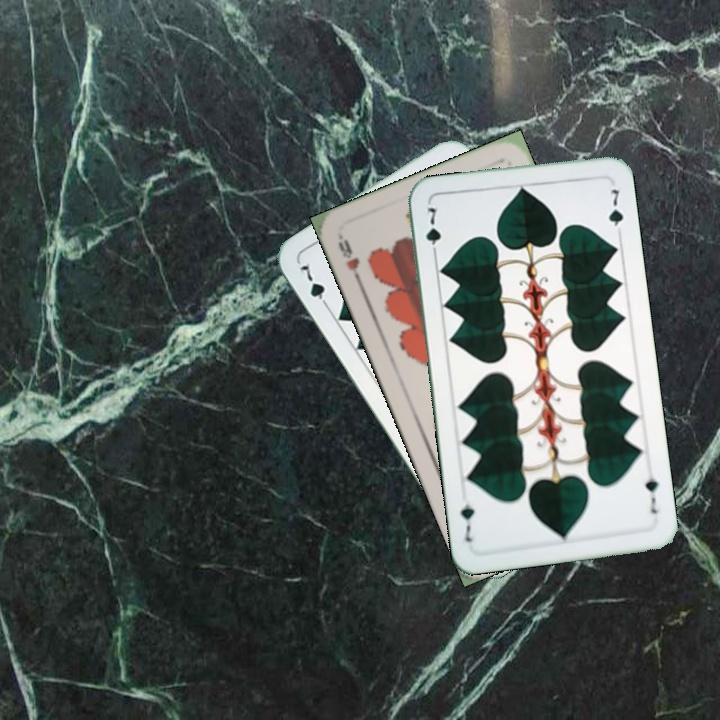G7: (295, 261, 333, 313), (421, 203, 444, 260), (641, 473, 661, 517)
H9: (333, 231, 365, 288)
